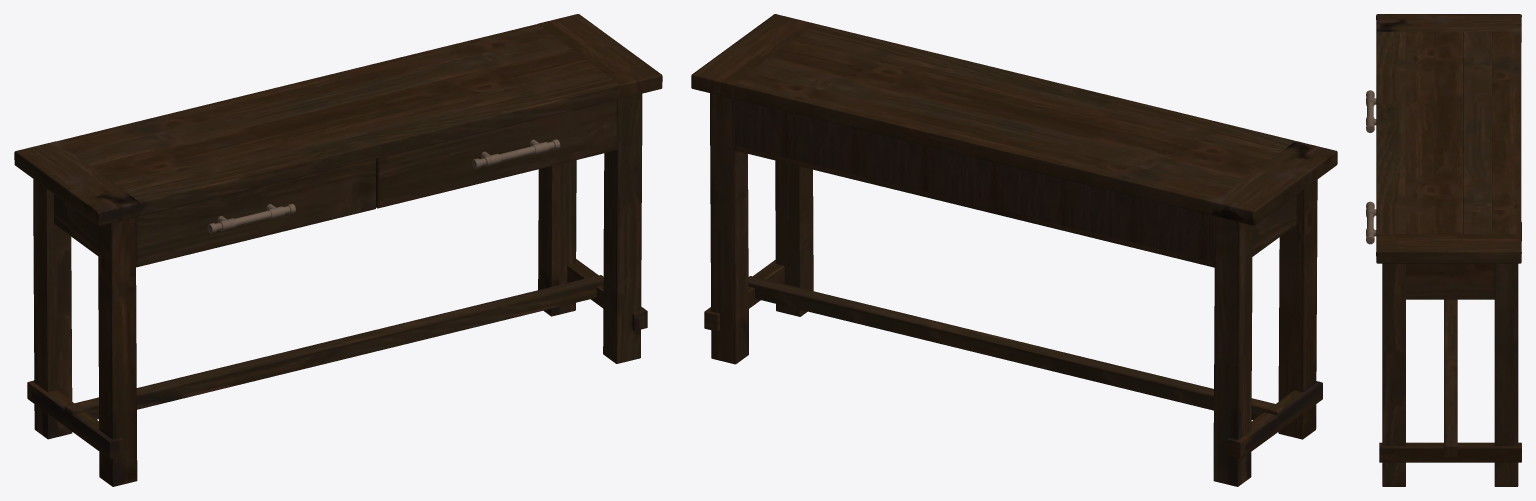
The model's file is abo-B075Z9X4G2.glb.
The picture shows the model from 3 angles, left to right: view 1: azimuth 30°, elevation 25°; view 2: azimuth 150°, elevation 25°; view 3: azimuth 270°, elevation 25°; orthographic projection. The views are drawn at different scales.
Size of the model in its own units: 1.6 by 0.762 by 0.442.
1 material, 1 textured.
